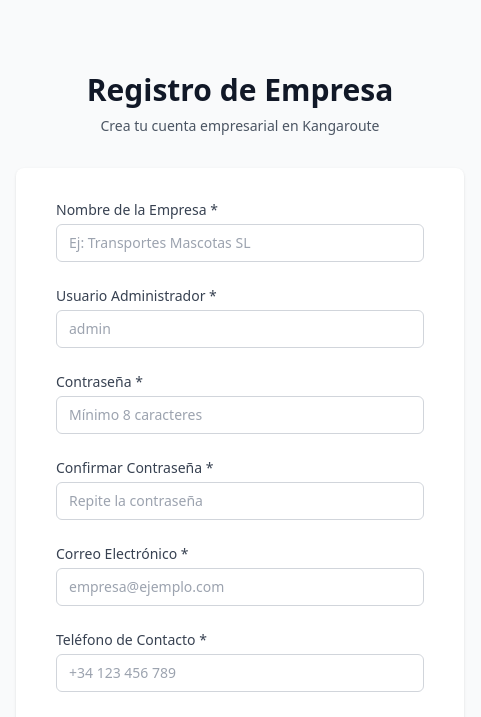
Test: CompanyRegistration Component › validates password confirmation
Type "password123" into the password field with placeholder "Mínimo 8 caracteres" at {"x": 240, "y": 415}, box [56,396,424,434]
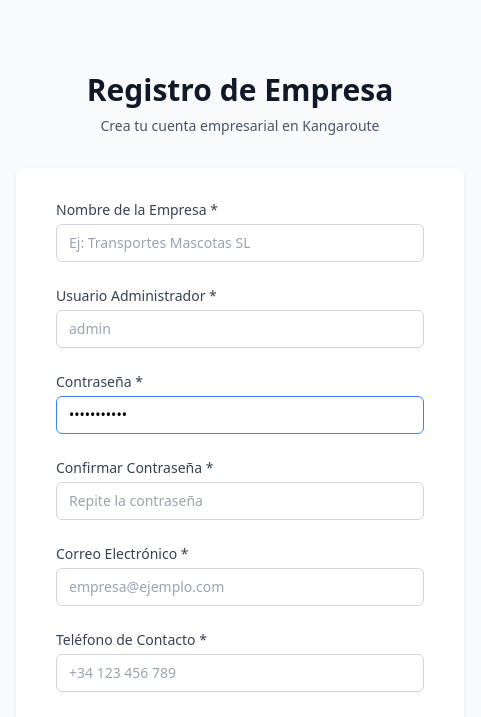
Type "differentpass" into the password field with placeholder "Repite la contraseña" at {"x": 240, "y": 501}, box [56,482,424,520]
(page scrolled)
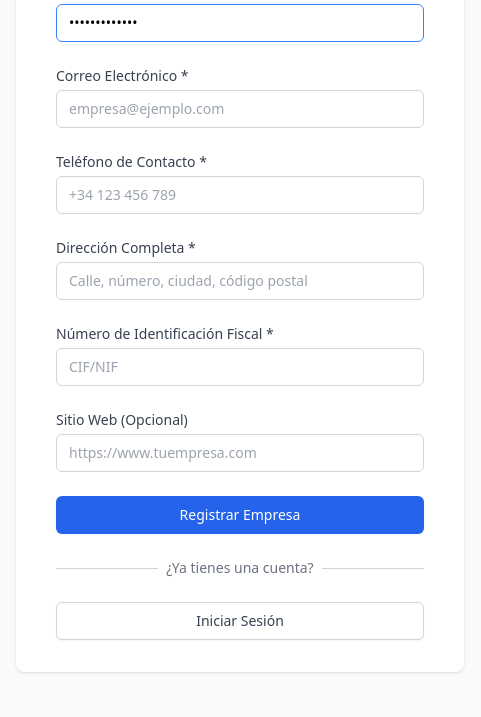
Click the button "Registrar Empresa" at {"x": 240, "y": 515}, box [56,496,424,534]
(page scrolled)
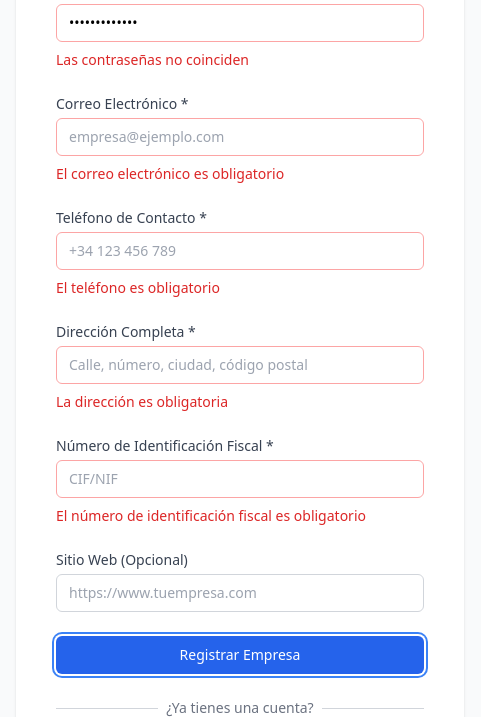
Expected: the text "Las contraseñas no coinciden" is shown, [56,50,249,69]
